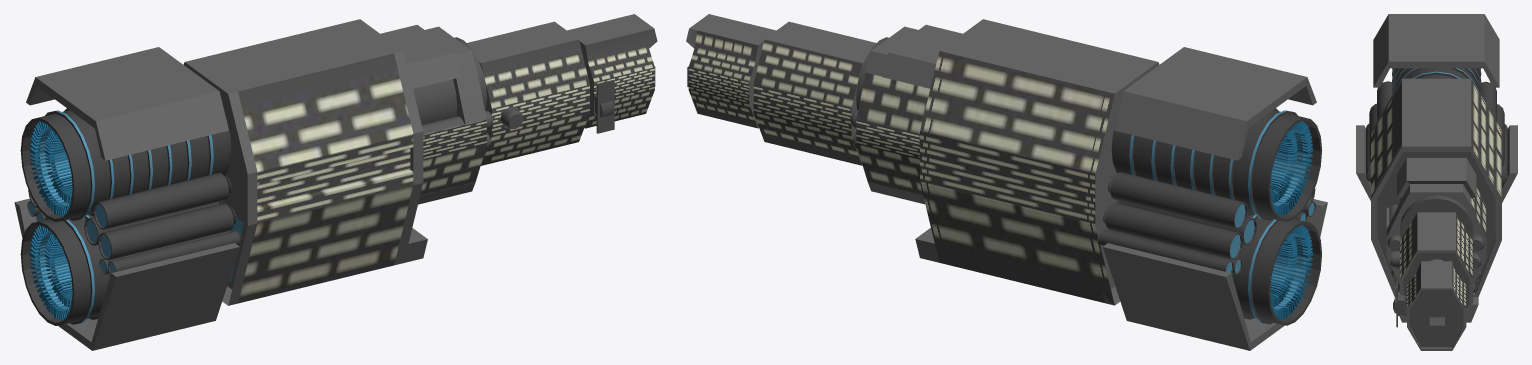
File: enemy_ship_asset.fbx
3 views of the same model, side by side, from view 1: azimuth 30°, elevation 25°; view 2: azimuth 150°, elevation 25°; view 3: azimuth 270°, elevation 25° (orthographic). The views are drawn at different scales.
Visible parts, largest first — view 1: enemy_ship; view 2: enemy_ship; view 3: enemy_ship.
Part boxes in pixels (x1=…): enemy_ship: x1=14, y1=14, x2=657, y2=350; enemy_ship: x1=686, y1=14, x2=1327, y2=350; enemy_ship: x1=1356, y1=14, x2=1517, y2=350.
Bounding box in the file's own units: 40.81 × 15.01 × 11.95.
